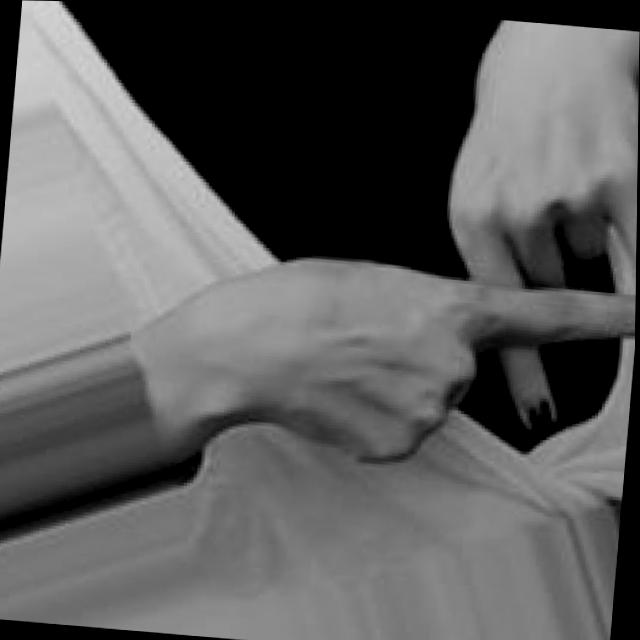H: (217, 20, 640, 487)
